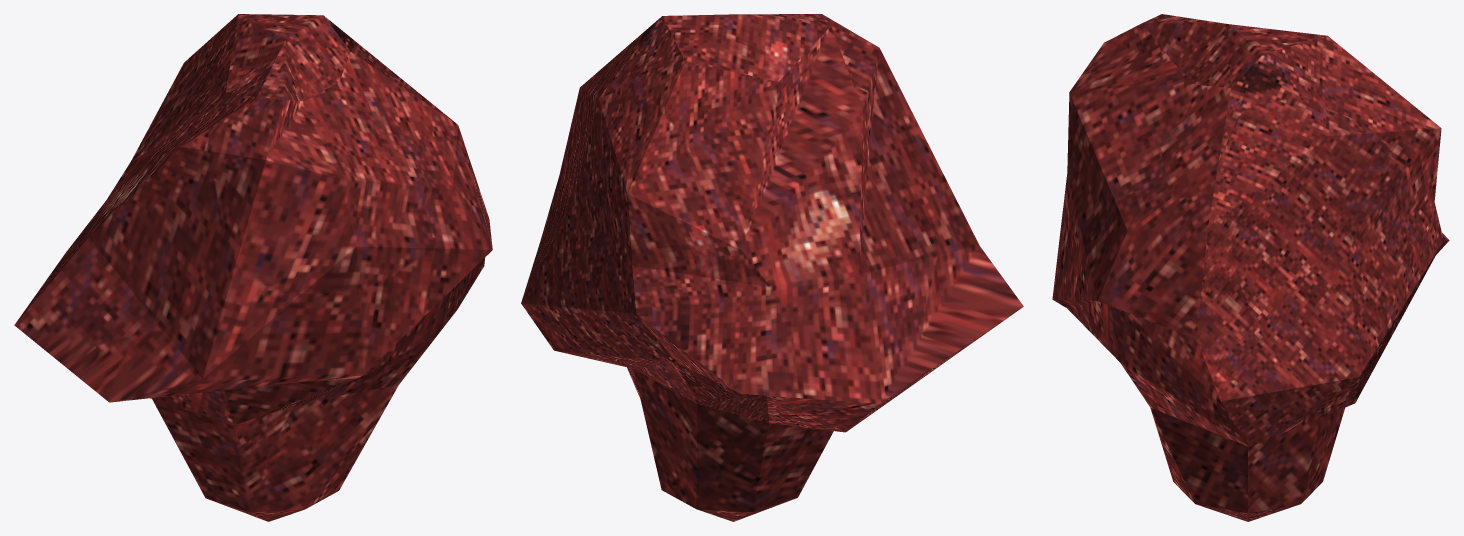
The model's file is toilet_bloody_pulp.fbx.
3 renders of one model, left to right at view 1: azimuth 30°, elevation 25°; view 2: azimuth 150°, elevation 25°; view 3: azimuth 270°, elevation 25°, orthographic. The views are drawn at different scales.
Visible parts, largest first — view 1: toilet_gore; view 2: toilet_gore; view 3: toilet_gore.
Part boxes in pixels (box(x1,y1,x2,y2)): toilet_gore: box(14, 14, 492, 521); toilet_gore: box(521, 14, 1023, 521); toilet_gore: box(1052, 14, 1449, 521).
Bounding box in the file's own units: 48.33 × 53.16 × 38.15.
Materials: 1 (1 with a texture image).
